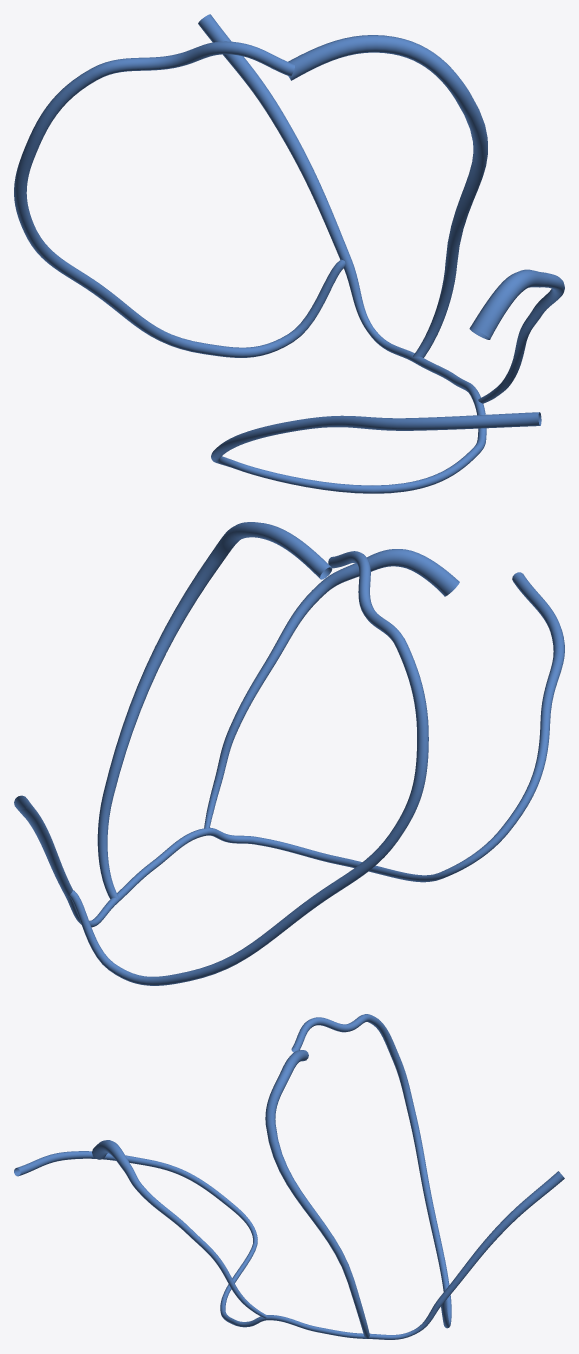
3 renders of one model, top to bottom at view 1: azimuth 30°, elevation 25°; view 2: azimuth 150°, elevation 25°; view 3: azimuth 270°, elevation 25°, orthographic. The views are drawn at different scales.
Parts seen in each view (by area): view 1: 左侧膝静脉; view 2: 左侧膝静脉; view 3: 左侧膝静脉.
Boxes of the visible parts, box(x1,y1,x2,y2) form: 左侧膝静脉: box(14, 14, 564, 493); 左侧膝静脉: box(14, 522, 564, 985); 左侧膝静脉: box(14, 1014, 564, 1339).
Bounding box in the file's own units: 0.1247 × 0.1275 × 0.2426.
